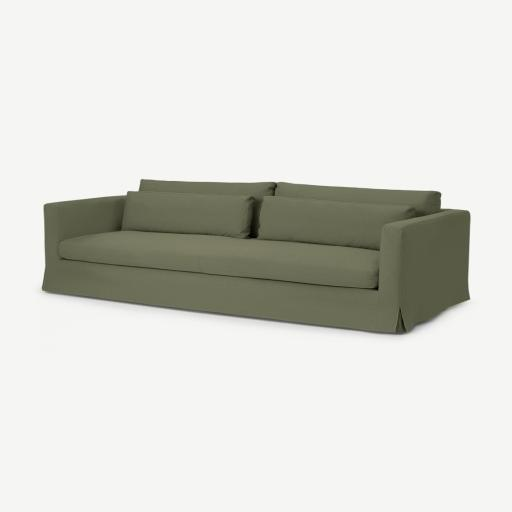back_cushion: (258, 197, 412, 249), (122, 192, 255, 239)
base: (56, 260, 377, 331)
left_arm: (376, 210, 470, 331)
right_arm: (43, 196, 125, 290)
seat_cushion: (59, 231, 379, 289)
two-seater: (0, 0, 511, 512)
